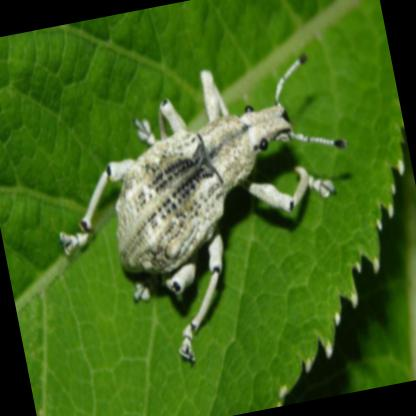ash weevil: (59, 55, 349, 360)
